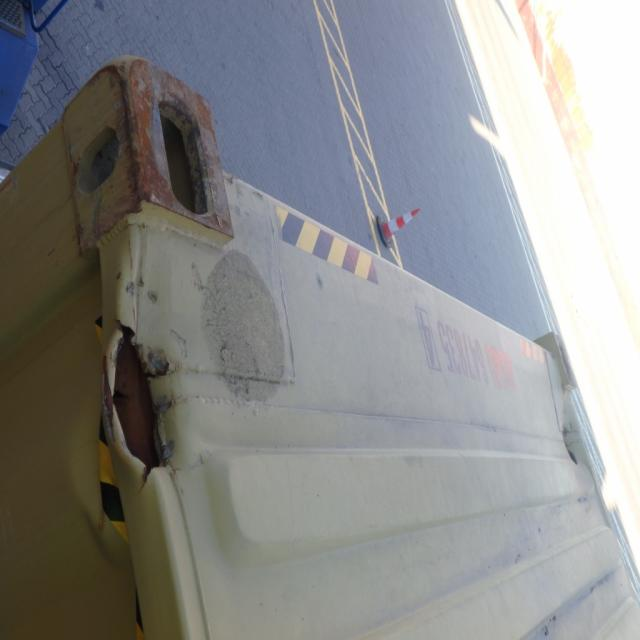hole: (107, 320, 175, 497)
